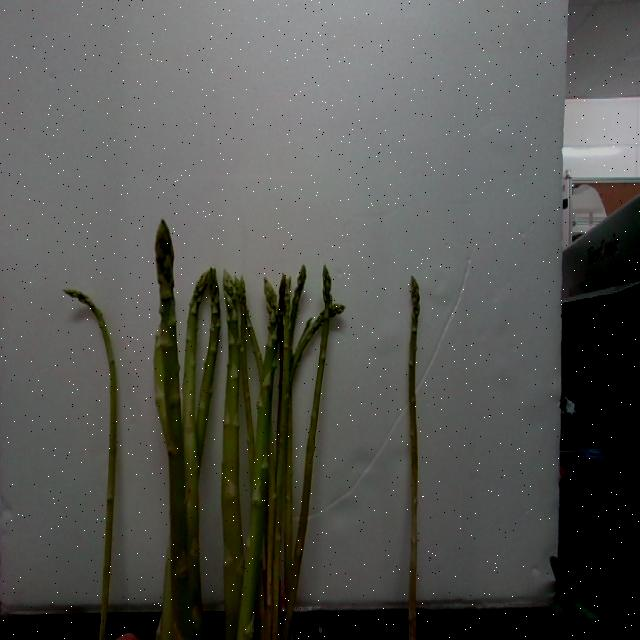aspargus: (152, 220, 199, 639), (67, 290, 120, 640), (406, 277, 420, 640)
